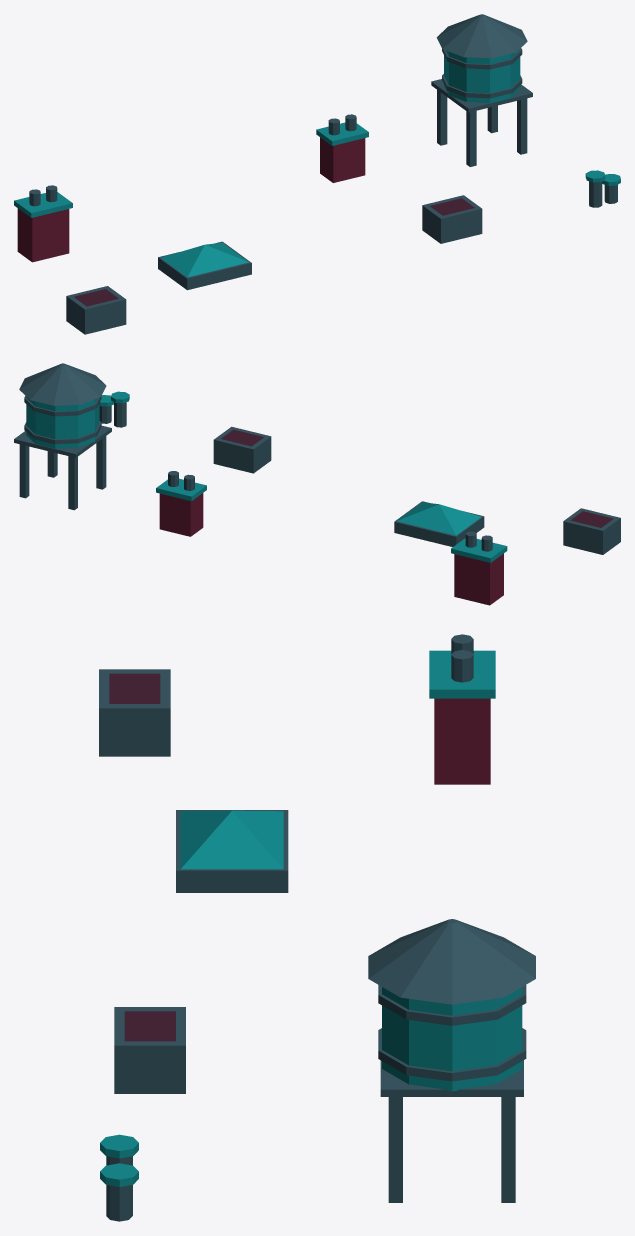
Rendered from props.glb.
The picture shows the model from 3 angles, top to bottom: view 1: azimuth 30°, elevation 25°; view 2: azimuth 150°, elevation 25°; view 3: azimuth 270°, elevation 25°; orthographic projection. The views are drawn at different scales.
Visible parts, largest first — view 1: TRoof, Tank, CLStack, ACL, ACR, SkyRoof, CRStack, SkyFrame, CLCap, TDeck, CRCap, TLeg2 (+4 smaller); view 2: TRoof, Tank, CLStack, ACR, ACL, CRStack, SkyRoof, SkyFrame, CLCap, TDeck, CRCap, TLeg1 (+4 smaller); view 3: TRoof, Tank, ACL, ACR, SkyRoof, CLStack, SkyFrame, CLCap, TDeck, TBand0, TBand1, TLeg1 (+2 smaller).
Part boxes in pixels (x1,y1,x2,y2): TRoof: (436, 14, 527, 58); Tank: (444, 49, 520, 102); CLStack: (17, 208, 69, 262); ACL: (66, 286, 126, 334); ACR: (422, 195, 482, 243); SkyRoof: (160, 242, 248, 277); CRStack: (320, 137, 365, 182); SkyFrame: (158, 241, 251, 290); CLCap: (14, 192, 72, 217); TDeck: (431, 79, 532, 112); CRCap: (316, 122, 368, 145); TLeg2: (466, 110, 476, 166); TRoof: (19, 363, 106, 405); Tank: (26, 397, 99, 448); CLStack: (454, 553, 503, 605); ACR: (213, 426, 271, 473); ACL: (563, 508, 620, 554); CRStack: (159, 493, 203, 536); SkyRoof: (397, 502, 481, 535); SkyFrame: (394, 501, 484, 546); CLCap: (451, 538, 507, 562); TDeck: (14, 425, 111, 457); CRCap: (156, 478, 206, 501); TLeg1: (19, 444, 29, 498); TRoof: (368, 919, 535, 1004); Tank: (382, 987, 522, 1091); ACL: (99, 669, 170, 756); ACR: (114, 1007, 185, 1093); SkyRoof: (180, 810, 283, 869); CLStack: (434, 698, 490, 784); SkyFrame: (176, 810, 288, 892); CLCap: (429, 650, 495, 698); TDeck: (380, 1060, 523, 1096); TBand0: (378, 1028, 526, 1081); TBand1: (378, 985, 526, 1025); TLeg1: (501, 1097, 515, 1202).
Size of the model in its own units: 11.71 by 2.75 by 4.27.
